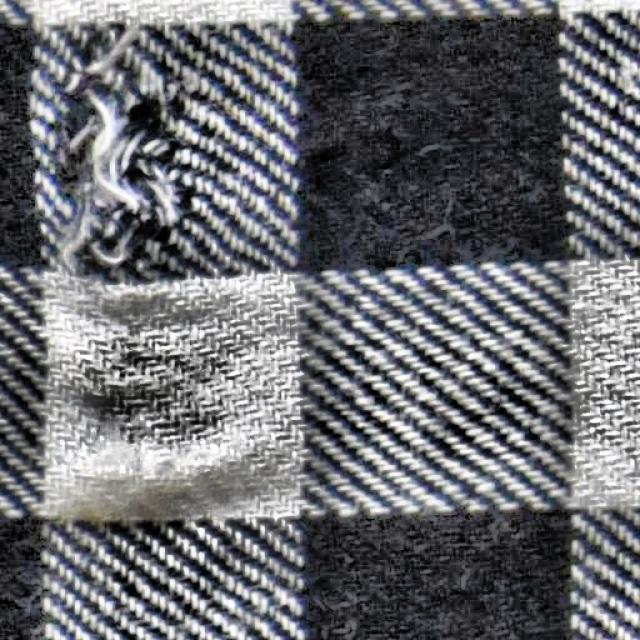cut: (45, 26, 185, 295)
